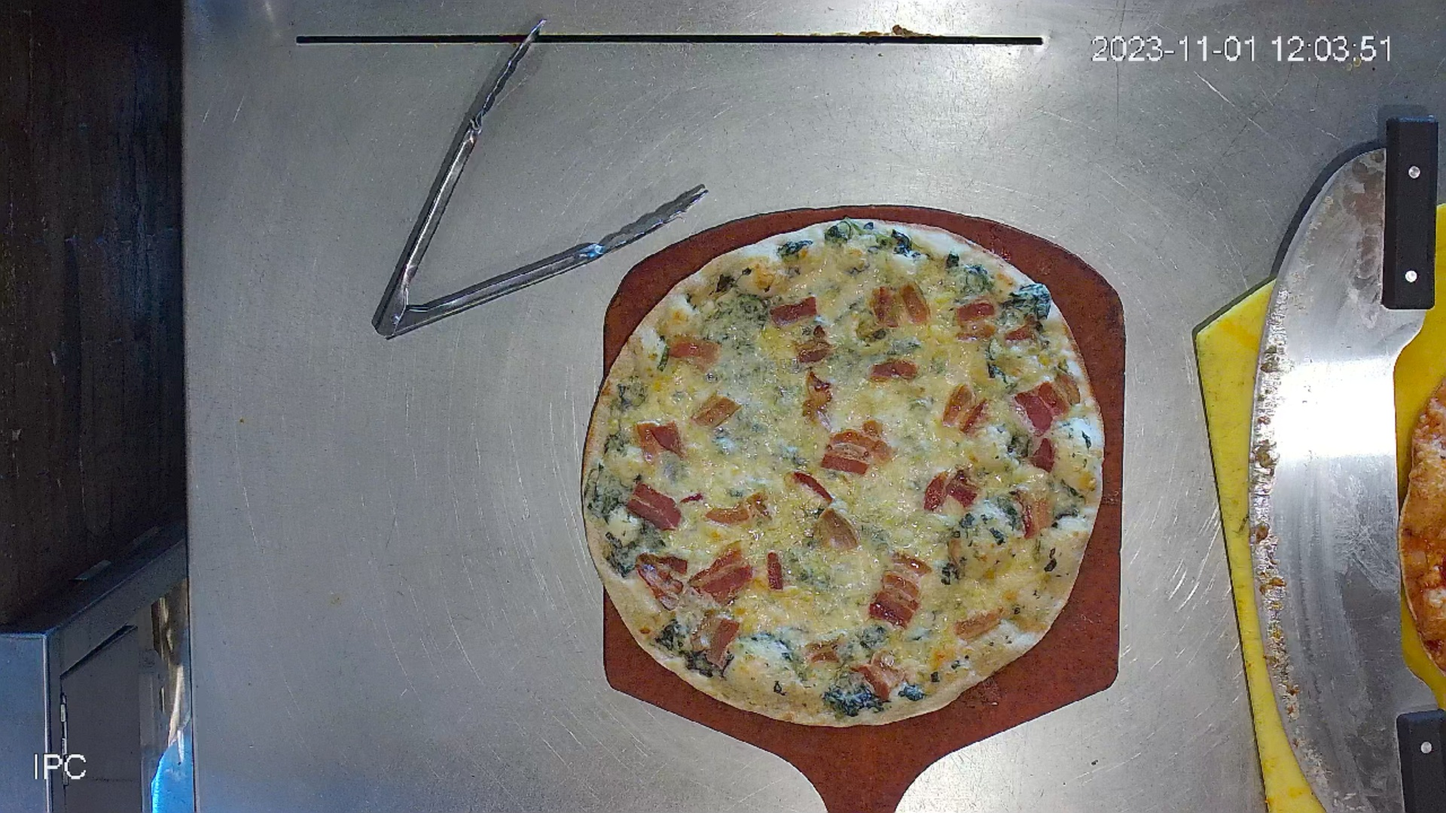pepporoni: (581, 221, 1109, 727)
